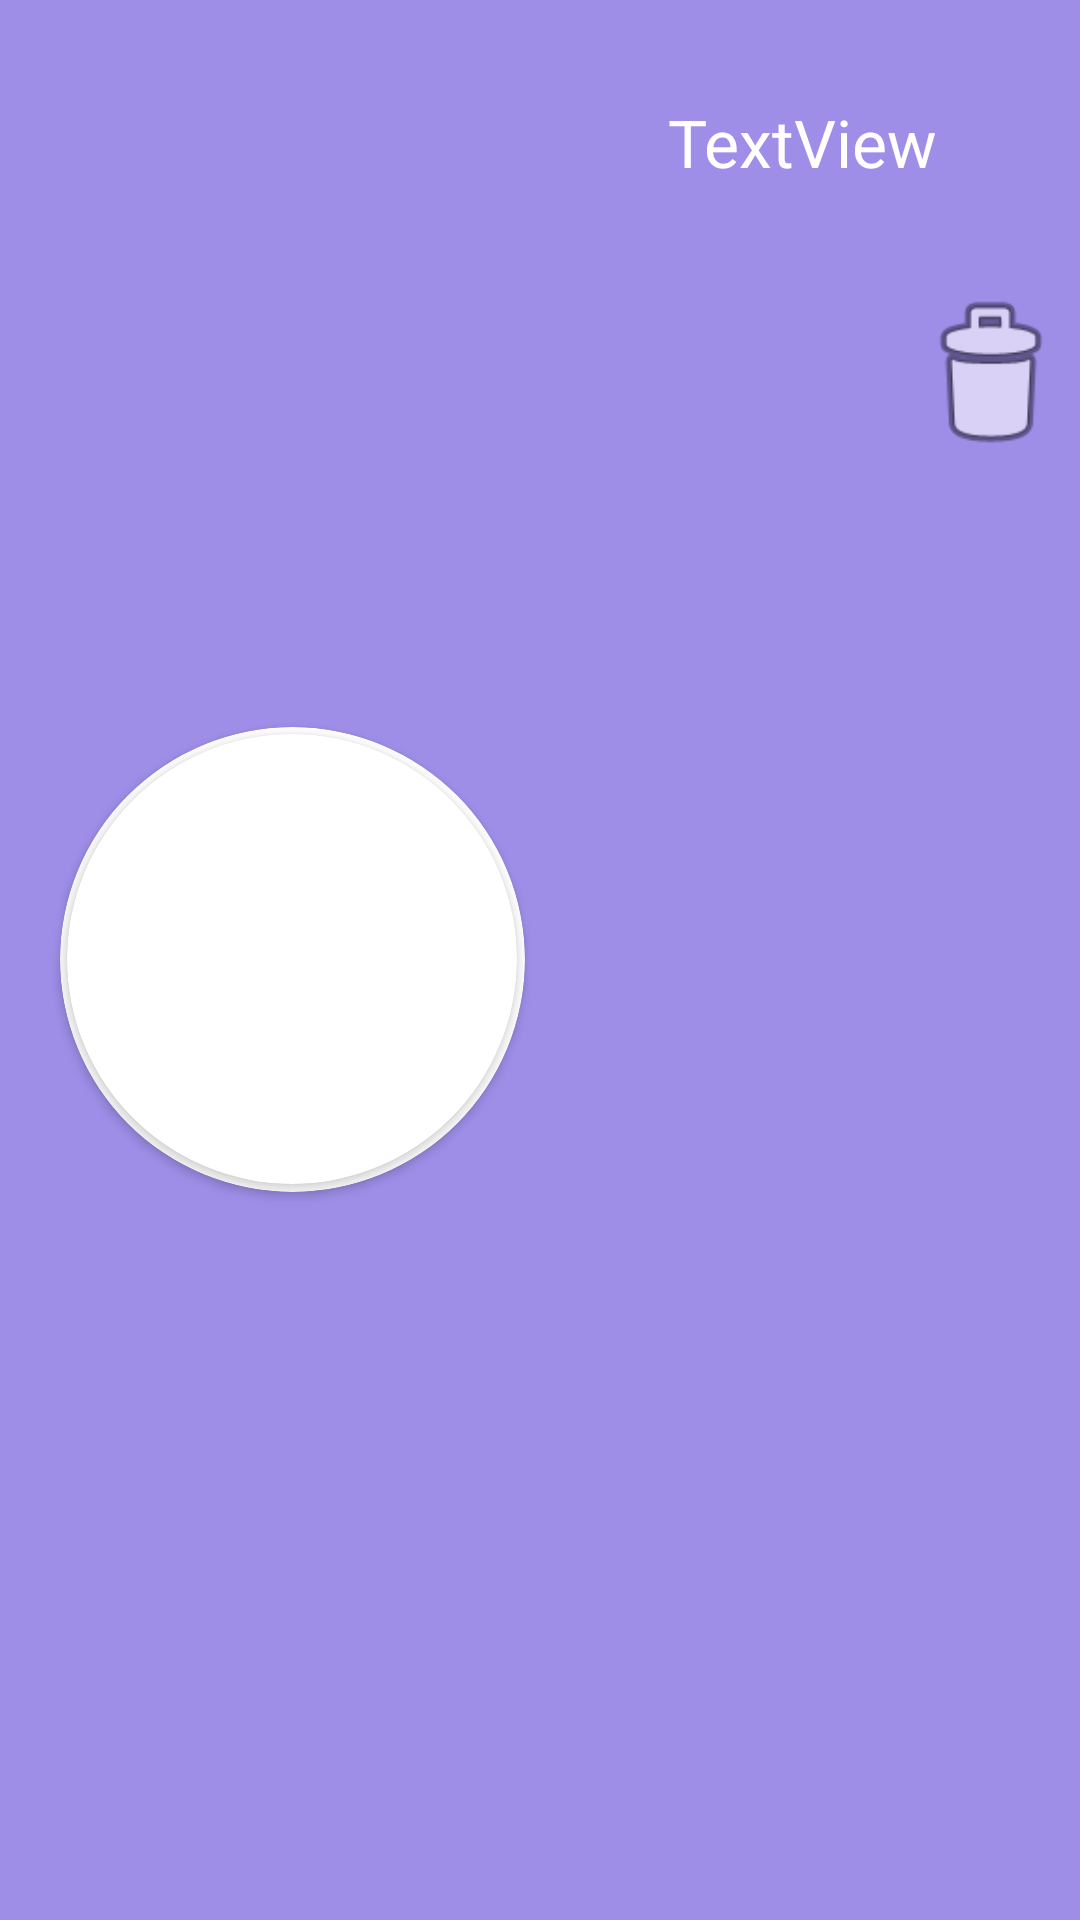

Icon bounding boxes for this 1080*1920 phone screenshot, format (x1, y1, x2, y2):
delete: (940, 302, 1042, 443)
